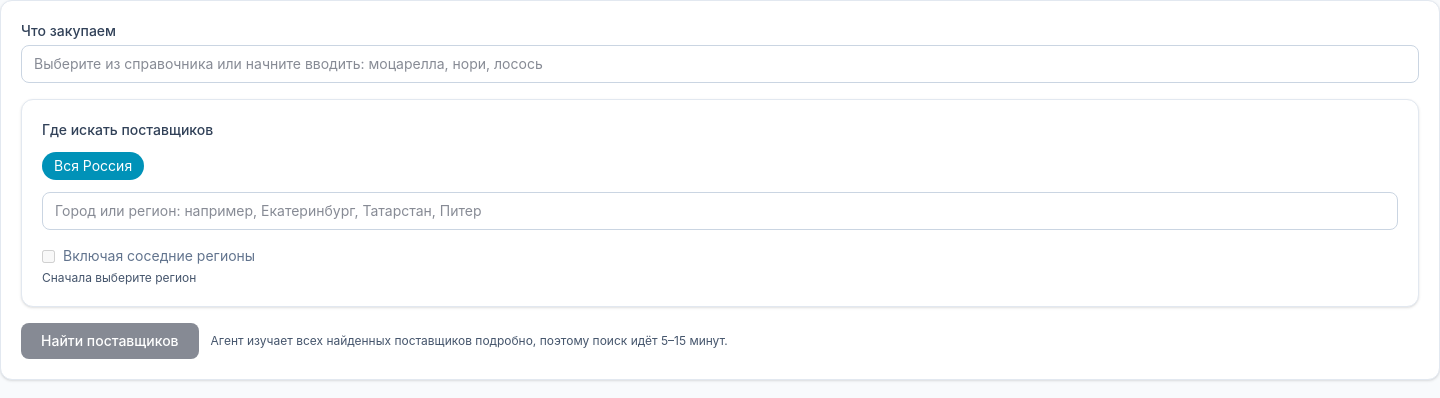
Test case: product › does not offer a product that is not in the catalog
Type "Мука пшеничная" into the dropdown labelled "Что закупаем".
click(720, 64); type("Мука пшеничная")  # box [21, 45, 1419, 83]
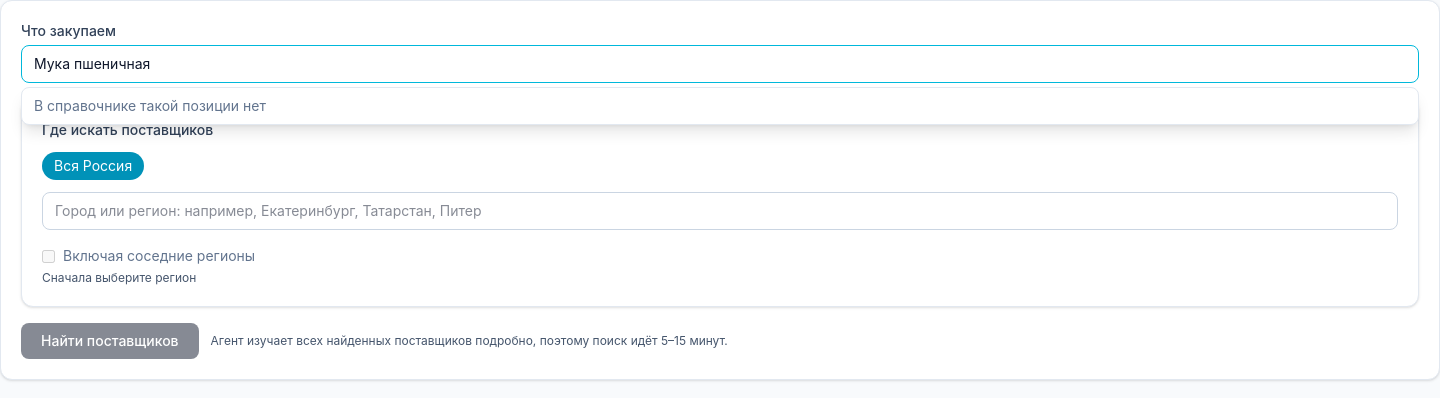
Check: the button "Найти поставщиков" is disabled, box [21, 323, 199, 359]
Check: the list item "В справочнике такой позиции нет" is shown, box [34, 97, 266, 114]
